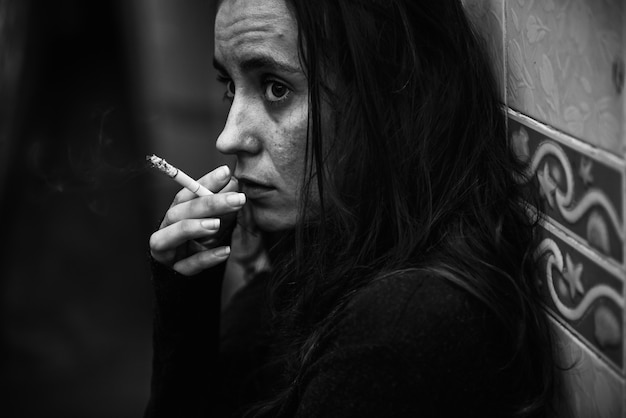cigarette: (145, 154, 213, 199)
